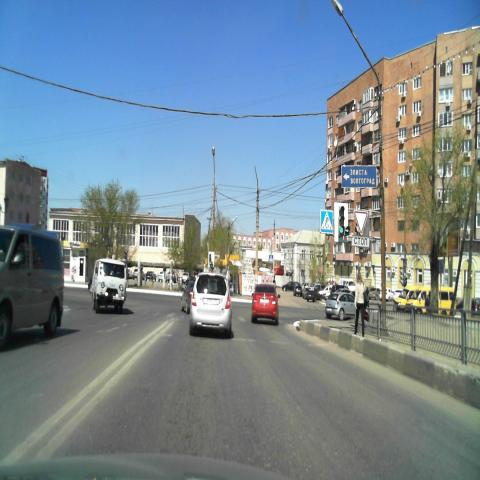2_4: (354, 210, 368, 235)
